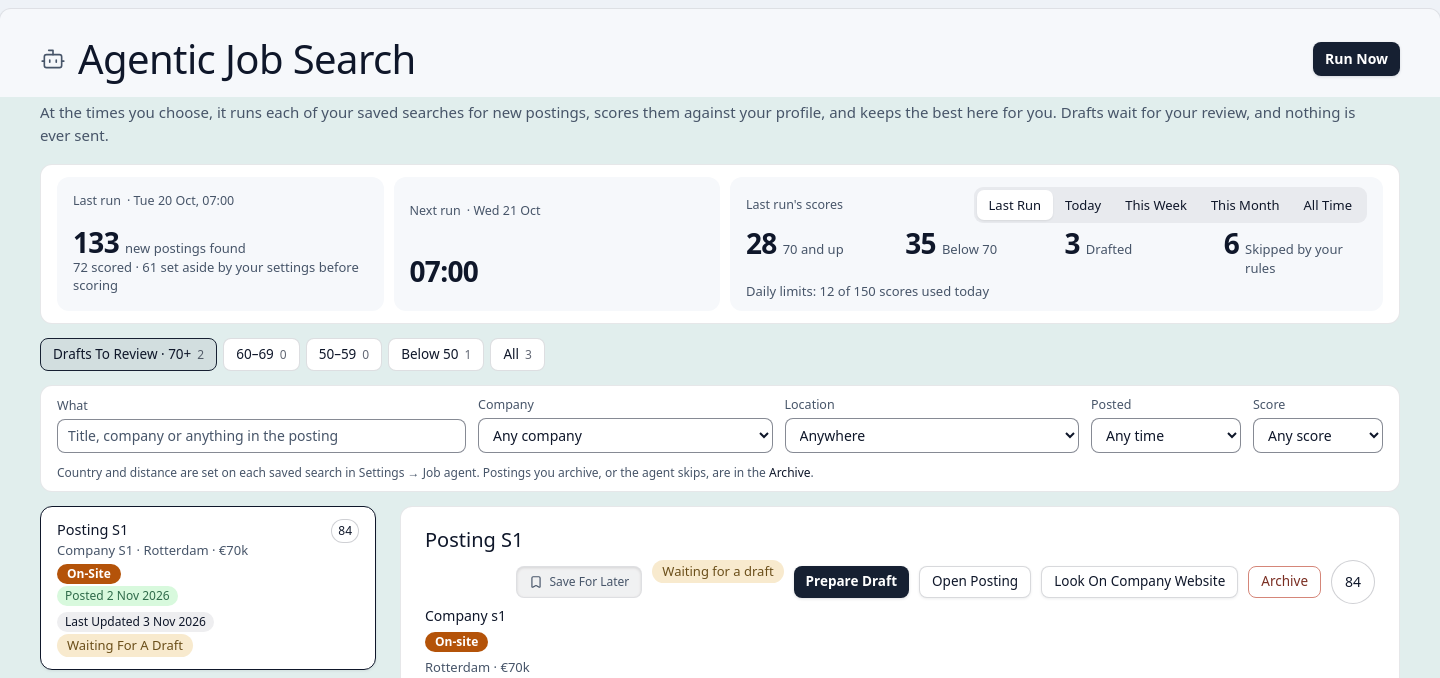
Test case: AgentScreen (E16-6) › lists scored postings best first, and shows the one picked with its reasons, red flags, error and link
The image size is (1440, 678).
Click the button "Drafts to review · 70+ 2": [129, 354] box x1=40 y1=338 x2=217 y2=371
(page scrolled)
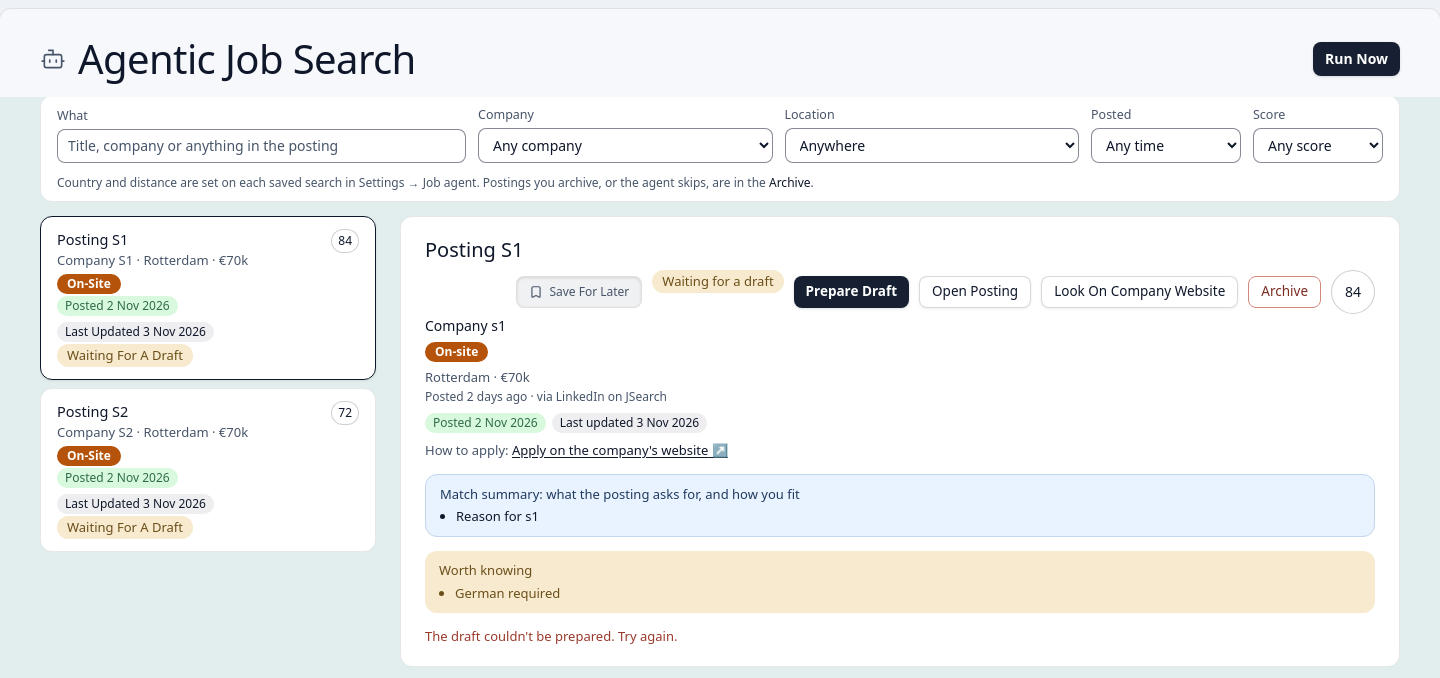
Expected: the list named "Why it fits" reads "Reason for s1", x1=456 y1=507 x2=539 y2=525
Expected: the list item "German required" is shown, x1=455 y1=584 x2=560 y2=602
Click the button "Posting s2": [93, 411] box x1=40 y1=388 x2=376 y2=552
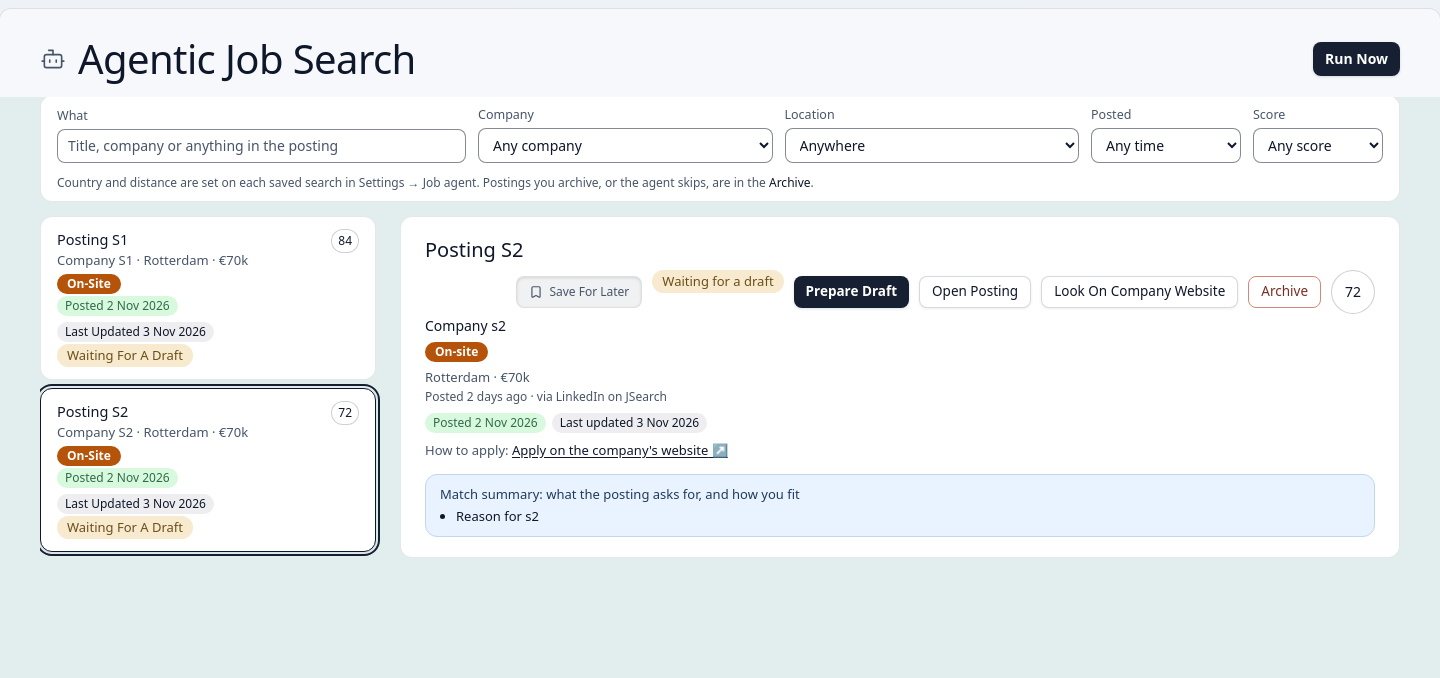
Expected: the heading "Posting s2" is shown, x1=425 y1=236 x2=524 y2=263
